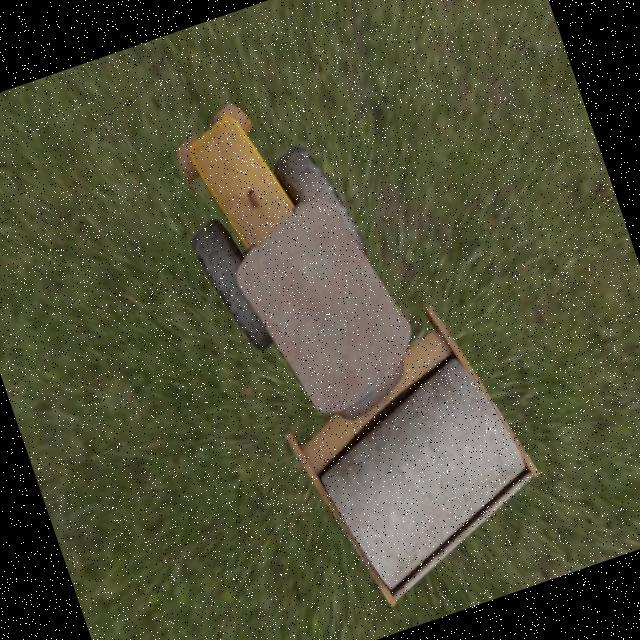Roller: (150, 45, 564, 630)
